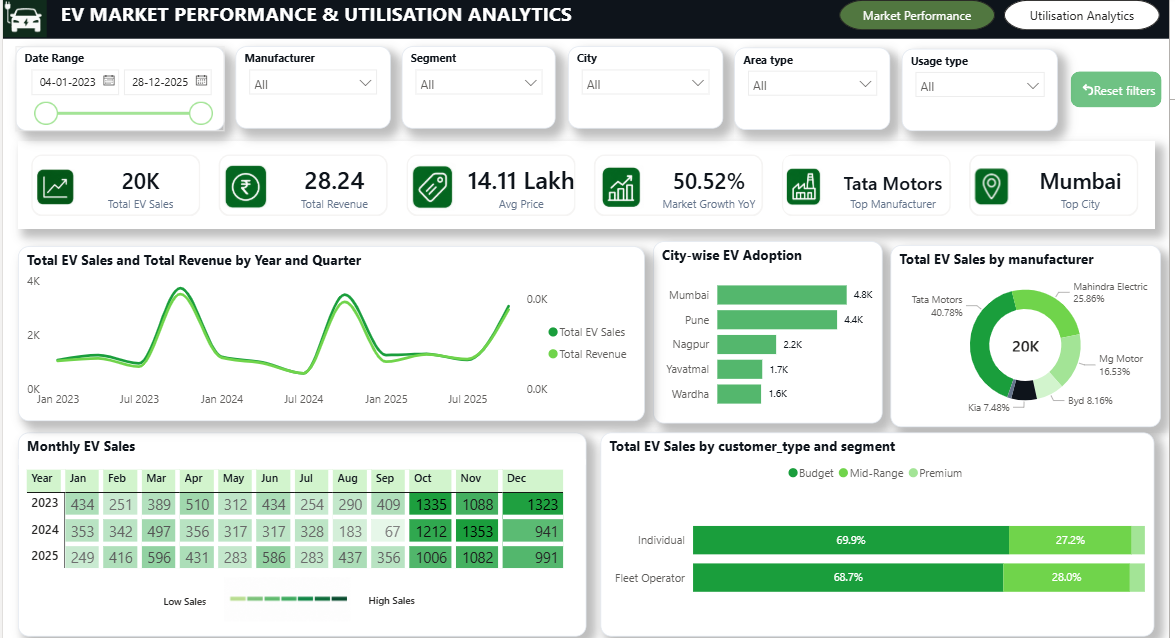

What the dashboard file says about the page in this screenshot:
{"tool":"powerbi","page":{"name":"Market Performance","canvas":[1280,720],"ordinal":0},"visuals":[{"type":"cardVisual","fields":{"Data":["fact.Total EV Sales","fact.Total Revenue","fact.Avg_Price","fact.Market Growth YoY %","vehicle.Top Manufacturer","location.Top City"]},"box":[16,160,1248,96],"z":0},{"type":"shape","box":[0,0,1280,48],"z":1000},{"type":"textbox","box":[48,0,592,48],"z":2000},{"type":"image","box":[0,0,48,48],"z":3000},{"type":"slicer","title":"Date Range","fields":{"Values":["Calendar.Date"]},"box":[13.3,56.7,229.2,92.9],"z":4000},{"type":"slicer","title":"Manufacturer","fields":{"Values":["vehicle.manufacturer"]},"box":[255.4,56.7,170.1,90.5],"z":5000},{"type":"slicer","title":"Segment","fields":{"Values":["segment.segment"]},"box":[438.3,56.7,168.9,90.5],"z":6000},{"type":"slicer","title":"City","fields":{"Values":["location.city"]},"box":[620.1,56.7,170.1,90.5],"z":7000},{"type":"slicer","title":"Area type","fields":{"Values":["location.area_type"]},"box":[803.1,57.9,171.3,90.5],"z":8000},{"type":"slicer","title":"Usage type","fields":{"Values":["usage.usage_type"]},"box":[987.3,59.1,171.3,90.5],"z":9000},{"type":"clusteredBarChart","title":"City-wise EV Adoption","fields":{"Category":["location.city"],"Y":["Sum(fact.units_sold)"]},"box":[713.3,270.2,252.1,200.3],"z":10000},{"type":"donutChart","fields":{"Category":["vehicle.manufacturer"],"Y":["fact.Total EV Sales"]},"box":[974.8,274.4,296.8,200.3],"z":11000},{"type":"cardVisual","fields":{"Data":["fact.Total EV Sales"]},"box":[1089.4,359.5,66.4,48.3],"z":12000},{"type":"pivotTable","title":"Monthly EV Sales","fields":{"Columns":["Calendar.Month"],"Values":["fact.Total EV Sales"],"Rows":["Calendar.Year"]},"box":[16,480,624,224],"z":13000},{"type":"image","box":[240,640,144,48],"z":14000},{"type":"cardVisual","fields":{"Data":["fact.high sales title"]},"box":[384,640,96,48],"z":15000},{"type":"cardVisual","fields":{"Data":["fact.low sales title"]},"box":[144,640,96,48],"z":16000},{"type":"actionButton","box":[1171.5,83.2,100.1,39.8],"z":17000},{"type":"pageNavigator","box":[918.1,6,353.5,33.8],"z":18000},{"type":"lineChart","fields":{"Y":["fact.Total EV Sales"],"Y2":["fact.Total Revenue"],"Category":["Calendar.Date.Variation.Date Hierarchy.Year","Calendar.Date.Variation.Date Hierarchy.Quarter","Calendar.Date.Variation.Date Hierarchy.Month","Calendar.Date.Variation.Date Hierarchy.Day"]},"box":[16,276.4,688,192],"z":19000},{"type":"hundredPercentStackedBarChart","fields":{"Category":["usage.customer_type"],"Y":["fact.Total EV Sales"],"Series":["segment.segment"]},"box":[656,480,608,224],"z":20000}]}

Visuals, with their boxes on the page's 1280x720 design canvas (x1, y1, x2, y2). These are canvas units, not pixel positions in the 1175x638 screenshot, which may show the page scaled, cropped or inside an application window:
cardVisual - fact.Total EV Sales x fact.Total Revenue: 16 160 1264 256
shape: 0 0 1280 48
textbox: 48 0 640 48
image: 0 0 48 48
"Date Range" slicer: 13 57 242 150
"Manufacturer" slicer: 255 57 426 147
"Segment" slicer: 438 57 607 147
"City" slicer: 620 57 790 147
"Area type" slicer: 803 58 974 148
"Usage type" slicer: 987 59 1159 150
"City-wise EV Adoption" clusteredBarChart: 713 270 965 470
donutChart - vehicle.manufacturer x fact.Total EV Sales: 975 274 1272 475
cardVisual - fact.Total EV Sales: 1089 360 1156 408
"Monthly EV Sales" pivotTable: 16 480 640 704
image: 240 640 384 688
cardVisual - fact.high sales title: 384 640 480 688
cardVisual - fact.low sales title: 144 640 240 688
actionButton: 1172 83 1272 123
pageNavigator: 918 6 1272 40
lineChart - fact.Total EV Sales x fact.Total Revenue: 16 276 704 468
hundredPercentStackedBarChart - usage.customer_type x fact.Total EV Sales: 656 480 1264 704
